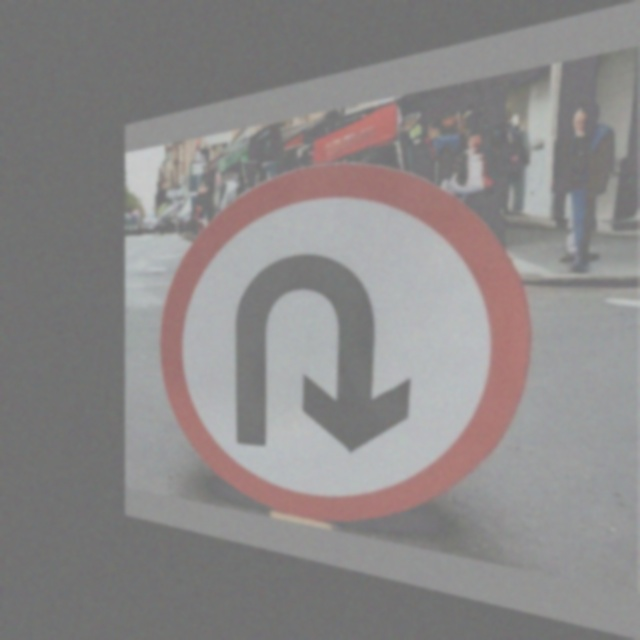U_Turn_Ahead: (191, 186, 498, 521)
